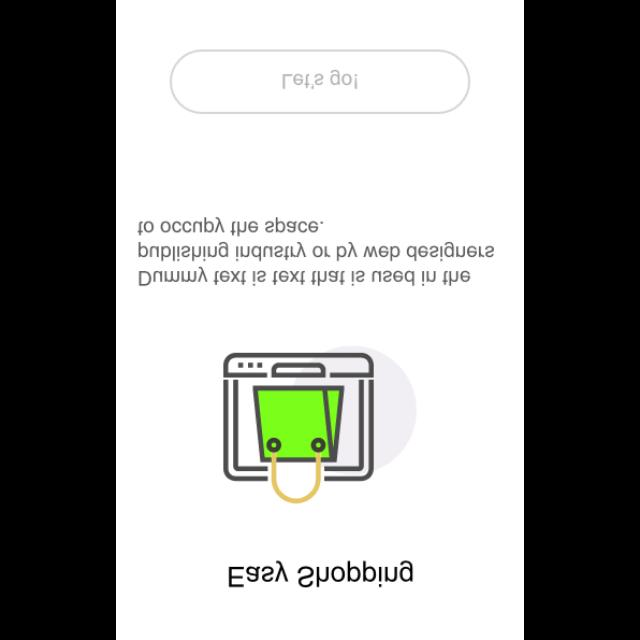image: (224, 345, 418, 503)
text: (138, 217, 496, 286), (228, 558, 414, 588)
textbutton: (170, 48, 470, 114)
